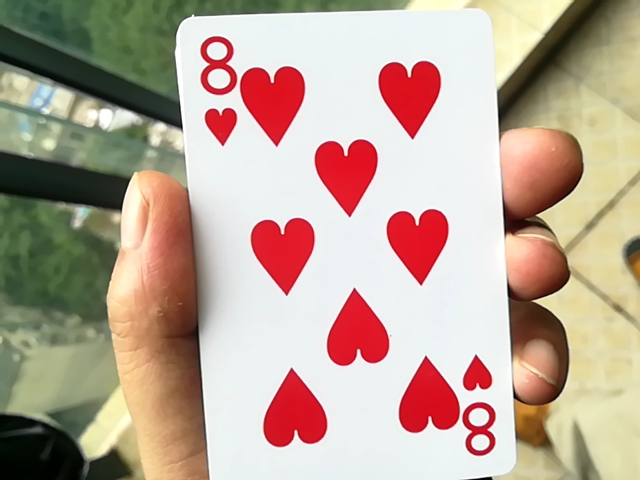hx 8: (154, 15, 511, 478)
